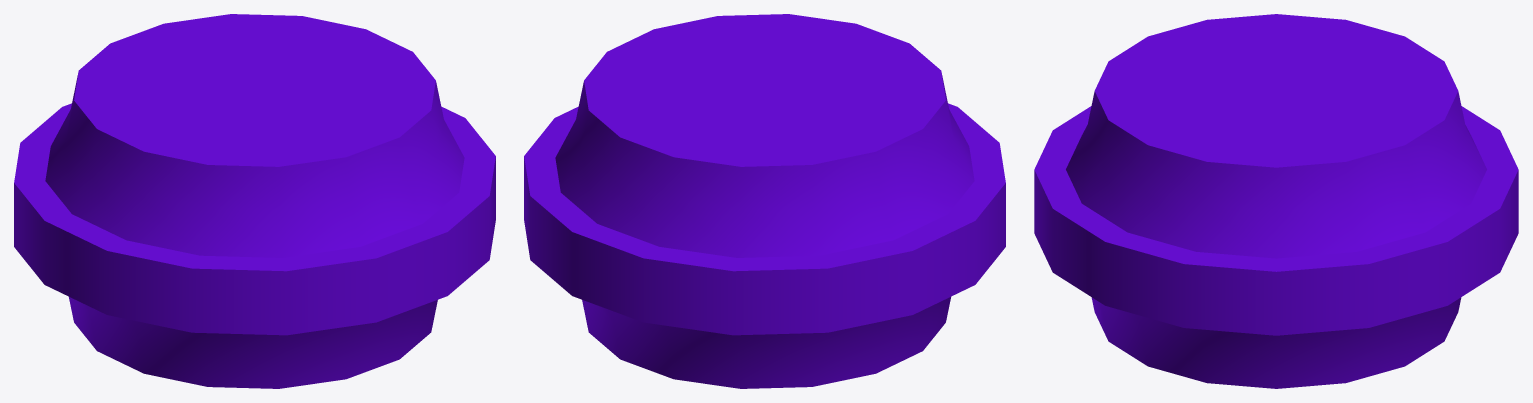
Rendered from bigtoken.fbx.
3 views of the same model, side by side, from view 1: azimuth 30°, elevation 25°; view 2: azimuth 150°, elevation 25°; view 3: azimuth 270°, elevation 25° (orthographic).
Visible parts, largest first — view 1: Cylinder; view 2: Cylinder; view 3: Cylinder.
Part boxes in pixels (x1,y1,x2,y2): Cylinder: (14, 14, 495, 388); Cylinder: (524, 14, 1005, 388); Cylinder: (1034, 14, 1518, 388).
Bounding box in the file's own units: 230 × 116 × 230.
